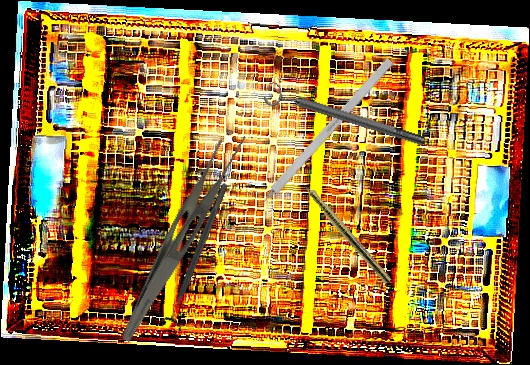Dressing Forceps: (119, 122, 250, 354)
Fixation Ring: (262, 78, 428, 156), (158, 179, 237, 333)
Handpiece: (289, 168, 394, 285)
Hook Surgical: (242, 57, 395, 225)
